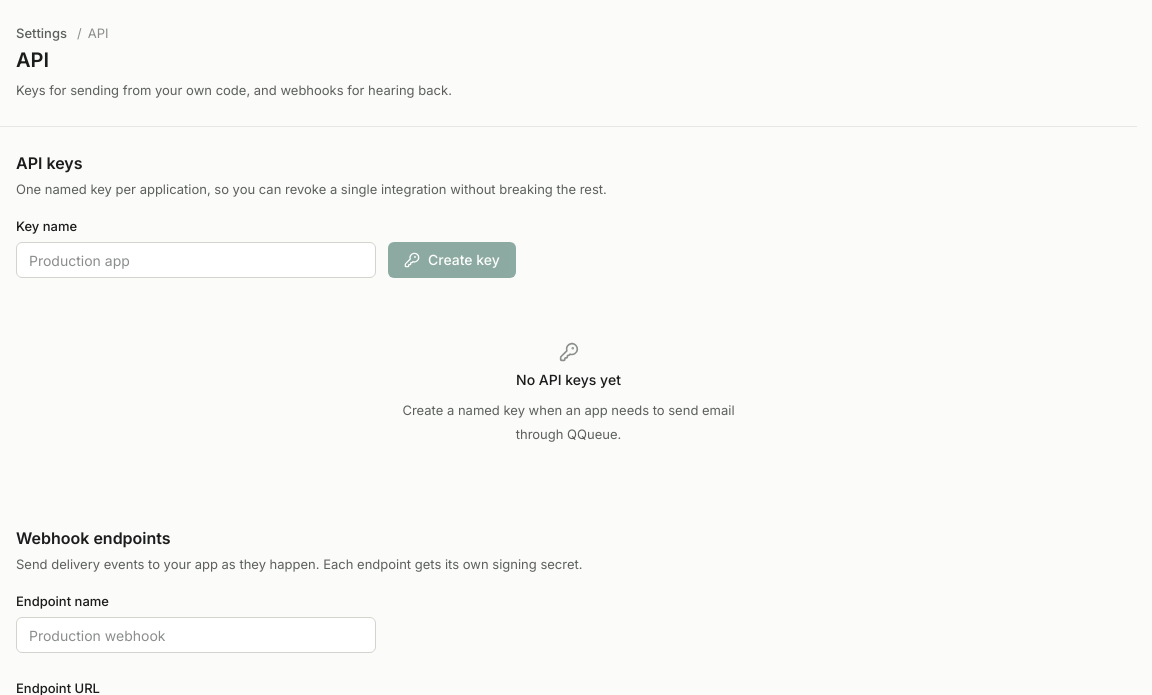
ApiSettings › creates an API key and shows the one-time secret
The image size is (1152, 695).
Type "Local app" into the field labelled "Key name" at (196, 260), box [16,242,376,278]
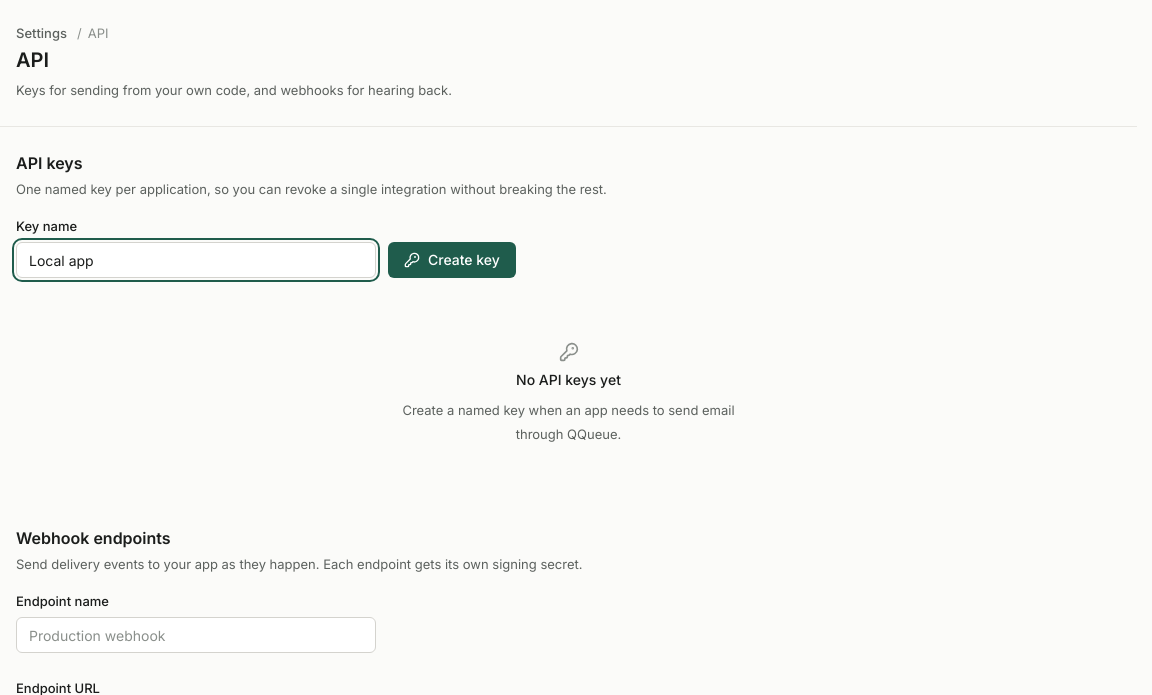
Click the button "Create key" at (452, 260), box [388,242,516,278]
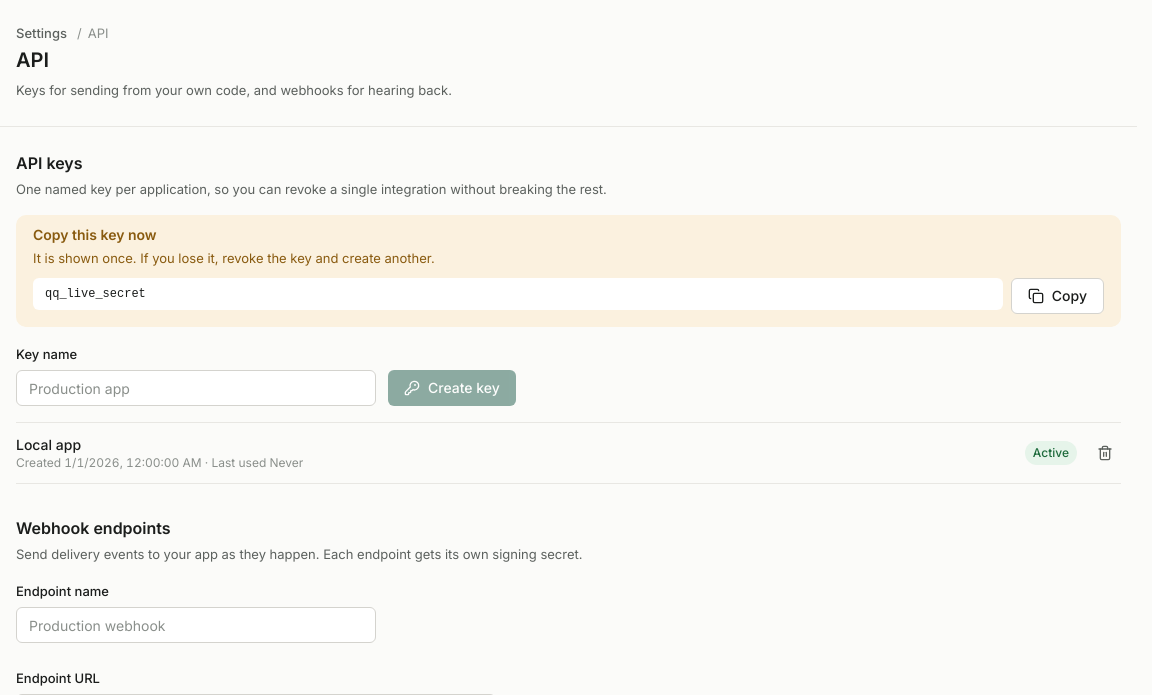
Expected: the text "qq_live_secret" is shown, [33,278,1003,310]
